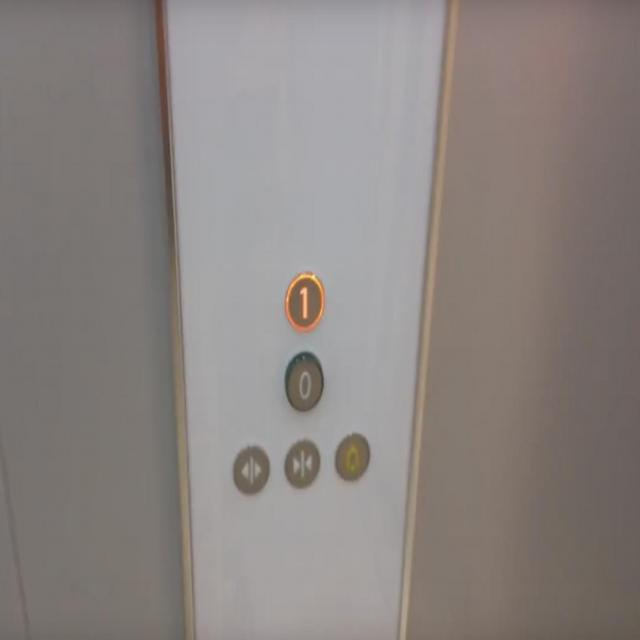0: (281, 346, 325, 416)
1: (282, 268, 328, 335)
alarm: (330, 425, 371, 486)
close: (281, 432, 323, 493)
open: (230, 439, 271, 500)
